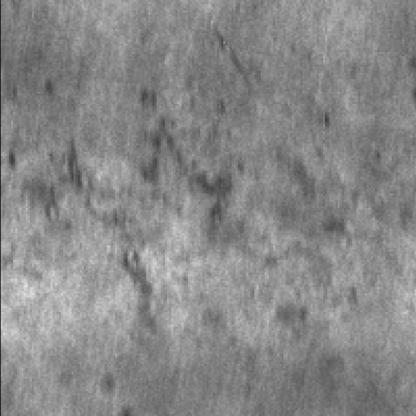rolled-in_scale: (8, 90, 233, 320), (222, 89, 362, 337)
